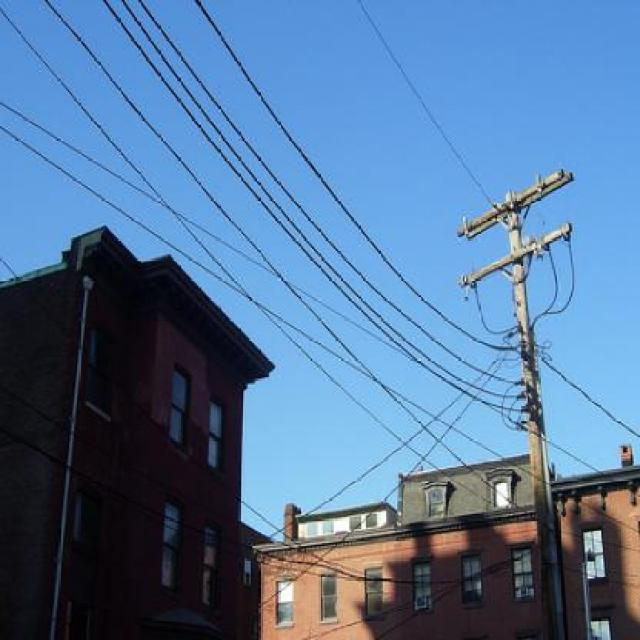pole: (452, 177, 591, 635)
